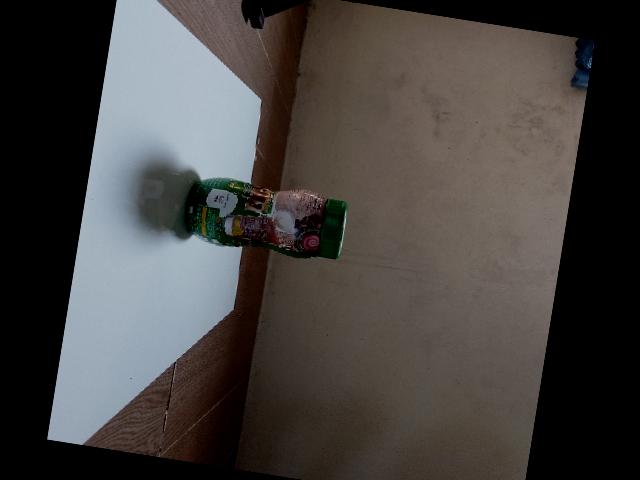milo: (182, 177, 346, 260)
